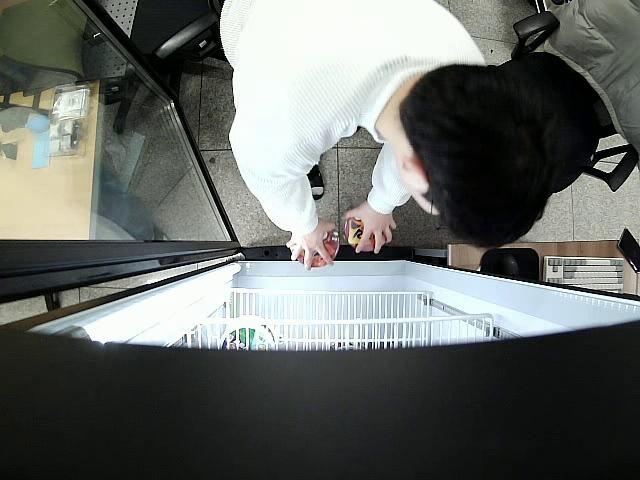05_nuguri_L: (291, 228, 339, 268), (345, 217, 386, 252)
